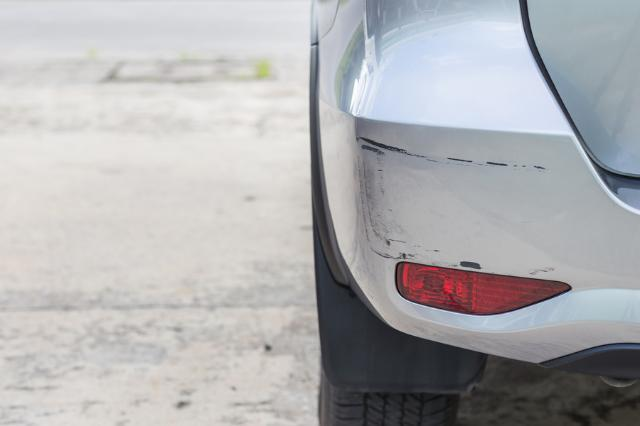Bumper: (331, 118, 573, 304)
